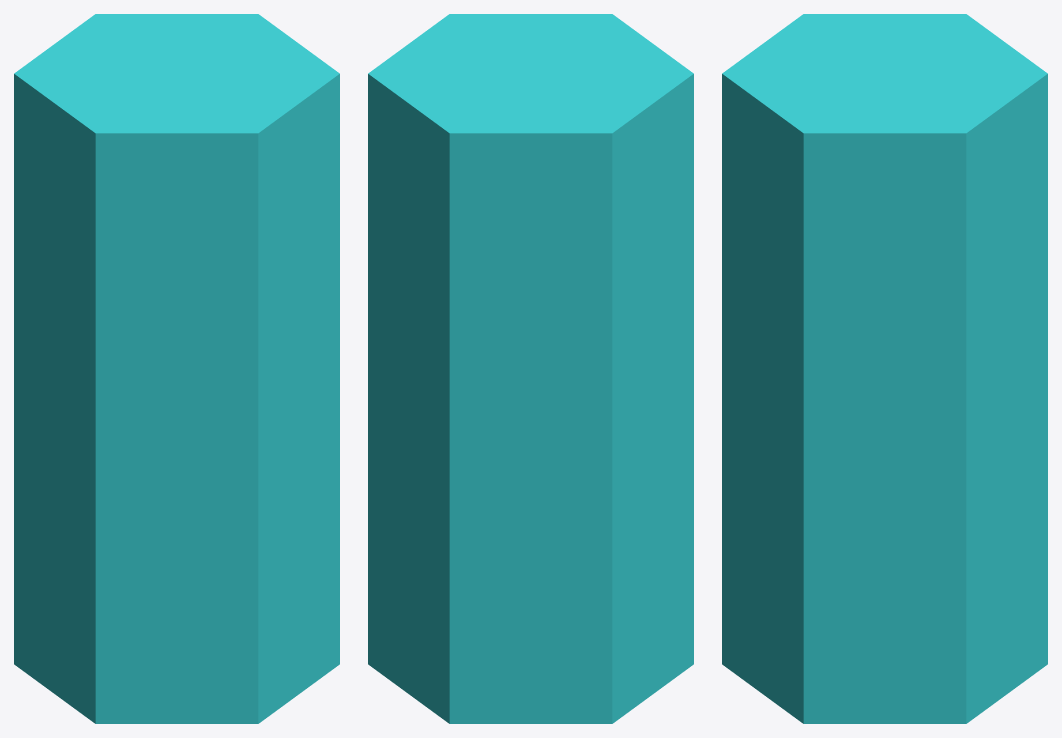
The model's file is jelly_seg.fbx.
3 views of the same model, side by side, from view 1: azimuth 30°, elevation 25°; view 2: azimuth 150°, elevation 25°; view 3: azimuth 270°, elevation 25° (orthographic).
Visible parts, largest first — view 1: Cylinder; view 2: Cylinder; view 3: Cylinder.
Part boxes in pixels (x1,y1,x2,y2): Cylinder: (14, 14, 339, 723); Cylinder: (368, 14, 693, 723); Cylinder: (722, 14, 1047, 723).
Size of the model in its own units: 8.66 by 20 by 10.
